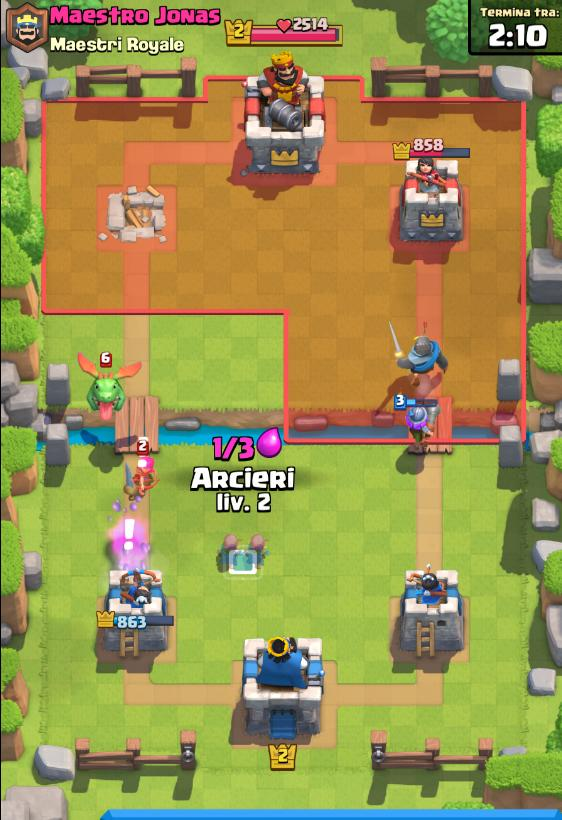ally_knight: (374, 320, 453, 379)
ally_musketeer: (388, 386, 451, 454)
enemy_archer: (129, 440, 157, 498)
enemy_baby_dragon: (63, 348, 146, 421)
